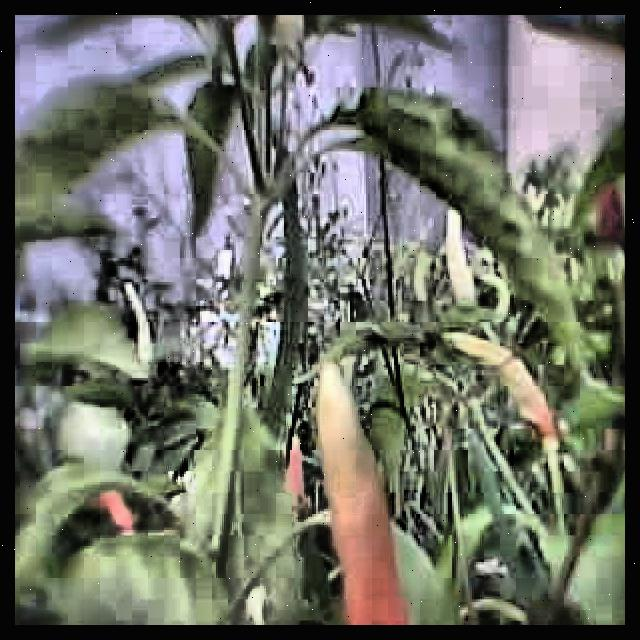Cabai: (286, 365, 412, 625)
